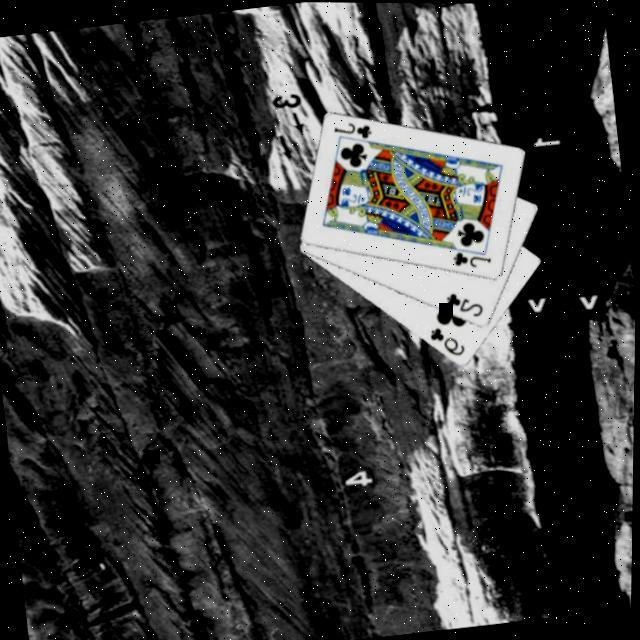2C: (441, 284, 485, 322)
6C: (423, 320, 468, 361)
JC: (327, 115, 374, 144), (447, 244, 494, 272)
